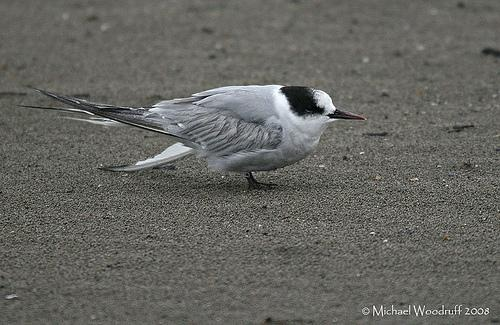bird: (31, 76, 372, 187)
